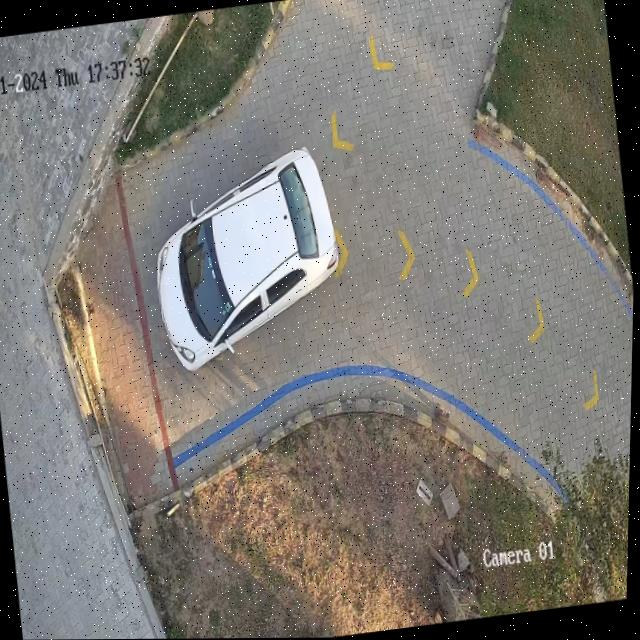car: (156, 146, 343, 371)
